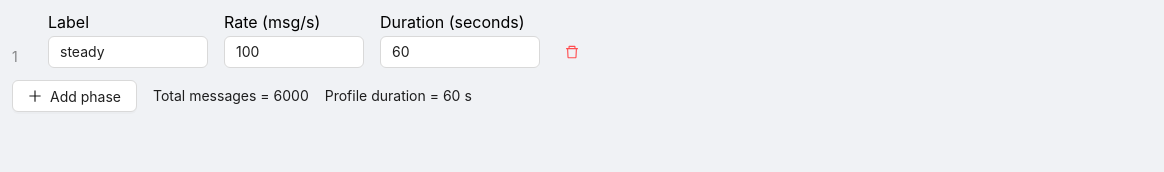
Test: ProfilePhasesEditor › surfaces an advisory when the profile has no phases
The width and height of the screenshot is (1164, 172).
Click the button named "Remove phase 1" at (572, 52), box top-left (556, 36), bottom-right (588, 68)
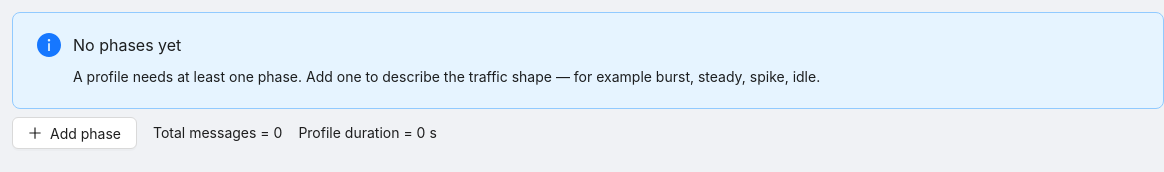
Check: the message with test id "profile-empty-advisory" is shown, box top-left (12, 12), bottom-right (1163, 109)
